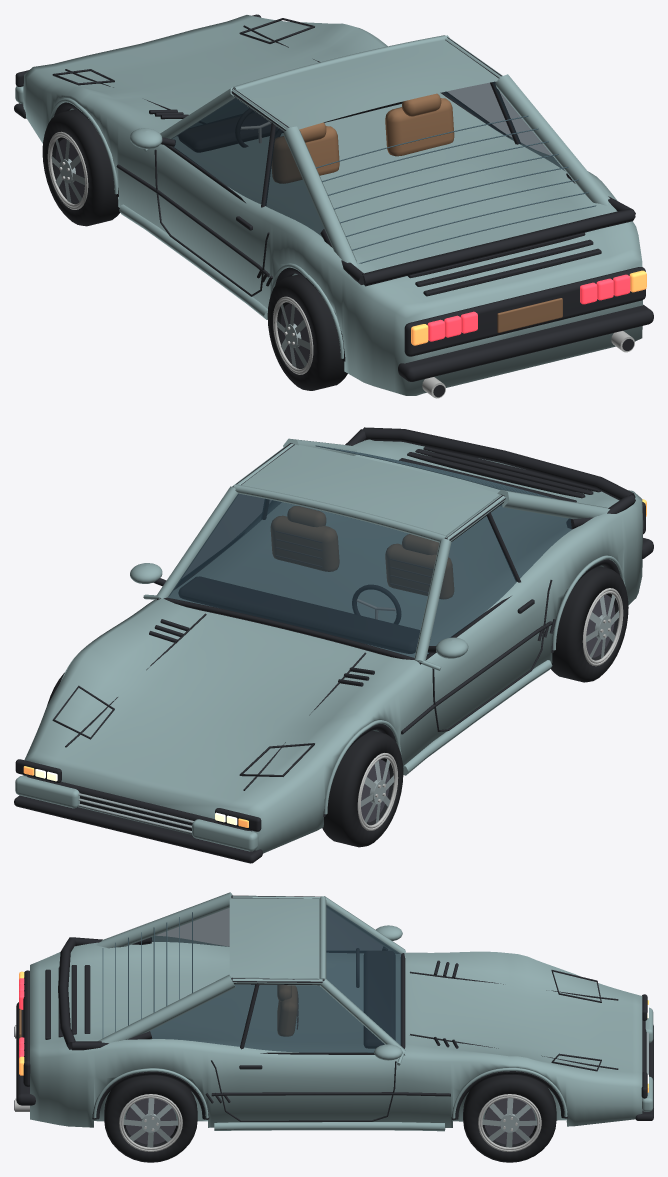
Rendered from solano-gt.glb.
3 views of the same model, one above another, from view 1: azimuth 30°, elevation 25°; view 2: azimuth 150°, elevation 25°; view 3: azimuth 270°, elevation 25° (orthographic). The views are drawn at different scales.
Parts seen in each view (by area): view 1: solano_body_surface, solano_wheel_LR_surface, solano_wheel_LF_surface; view 2: solano_body_surface, solano_wheel_LF_surface, solano_wheel_LR_surface; view 3: solano_body_surface, solano_wheel_RF_surface, solano_wheel_RR_surface.
Boxes of the visible parts, box(x1,y1,x2,y2) form: solano_body_surface: box(14, 14, 653, 398); solano_wheel_LR_surface: box(267, 274, 347, 390); solano_wheel_LF_surface: box(42, 109, 120, 226); solano_body_surface: box(14, 427, 653, 863); solano_wheel_LF_surface: box(322, 730, 403, 847); solano_wheel_LR_surface: box(550, 566, 628, 682); solano_body_surface: box(14, 892, 653, 1131); solano_wheel_RF_surface: box(463, 1075, 556, 1162); solano_wheel_RR_surface: box(104, 1075, 197, 1162).
Bounding box in the file's own units: 2.18 × 1.34 × 4.55.
